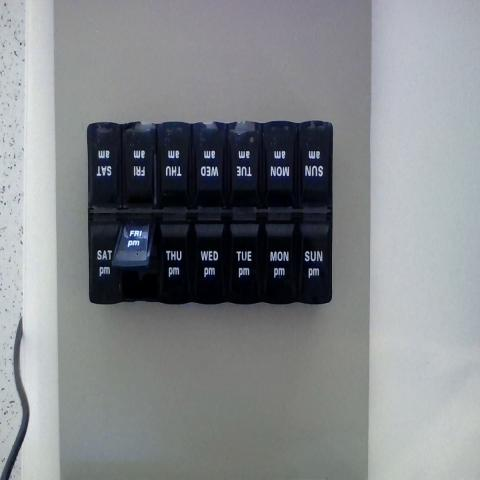FRI-am: (124, 118, 156, 205)
MON-am: (264, 124, 299, 204)
MON-pm: (263, 218, 297, 302)
Open: (112, 242, 152, 299)
PillBox: (71, 91, 356, 337)
SAT-am: (88, 121, 120, 204)
SAT-pm: (87, 213, 120, 302)
SUN-am: (300, 125, 332, 209)
SUN-pm: (298, 214, 332, 298)
THU-am: (158, 121, 191, 204)
THU-pm: (154, 213, 194, 303)
TUE-am: (230, 123, 262, 208)
TUE-pm: (226, 217, 261, 303)
WED-am: (194, 119, 228, 206)
WED-pm: (191, 218, 225, 301)
